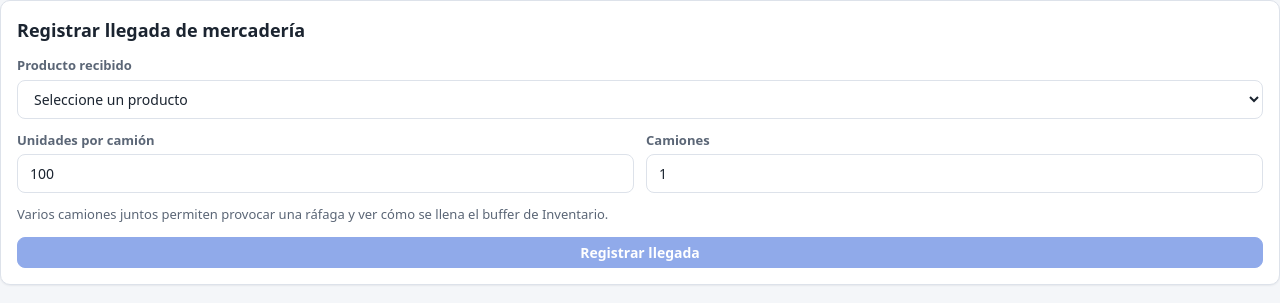
Test case: ReceptionForm › cannot be submitted until a product is chosen
This screenshot has width=1280, height=303.
Expected: the button "Registrar llegada" is disabled, 17,236 -> 1263,268
Select "Refrigeradora · Pesado" in the dropdown labelled "Producto recibido" at (640, 99), box 17,80 -> 1263,118
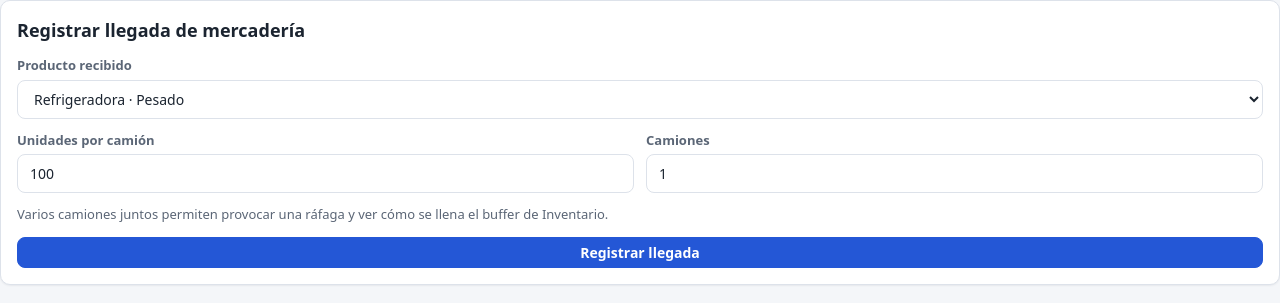
Expected: the button "Registrar llegada" is enabled, 17,236 -> 1263,268
